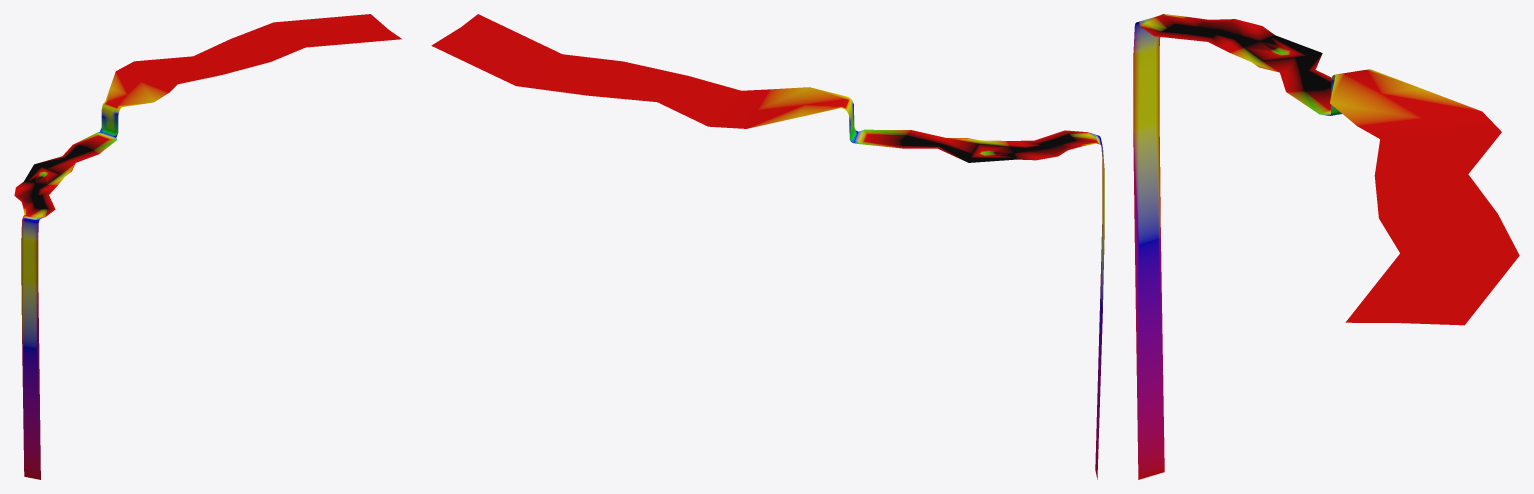
3 views of the same model, side by side, from view 1: azimuth 30°, elevation 25°; view 2: azimuth 150°, elevation 25°; view 3: azimuth 270°, elevation 25° (orthographic). The views are drawn at different scales.
Visible parts, largest first — view 1: G:\FFXIV-MapTools\exports\w1f3\bg\ffxiv\wil_w1\fld\w1f3\bgpa (×3); view 2: G:\FFXIV-MapTools\exports\w1f3\bg\ffxiv\wil_w1\fld\w1f3\bgpa (×3); view 3: G:\FFXIV-MapTools\exports\w1f3\bg\ffxiv\wil_w1\fld\w1f3\bgpa (×3).
Part boxes in pixels (box(x1,y1,x2,y2)): G:\FFXIV-MapTools\exports\w1f3\bg\ffxiv\wil_w1\fld\w1f3\bgpa (×3): box(14, 14, 401, 479); G:\FFXIV-MapTools\exports\w1f3\bg\ffxiv\wil_w1\fld\w1f3\bgpa (×3): box(431, 14, 1104, 479); G:\FFXIV-MapTools\exports\w1f3\bg\ffxiv\wil_w1\fld\w1f3\bgpa (×3): box(1133, 14, 1519, 479).
Bounding box in the file's own units: 644 × 420 × 282.
